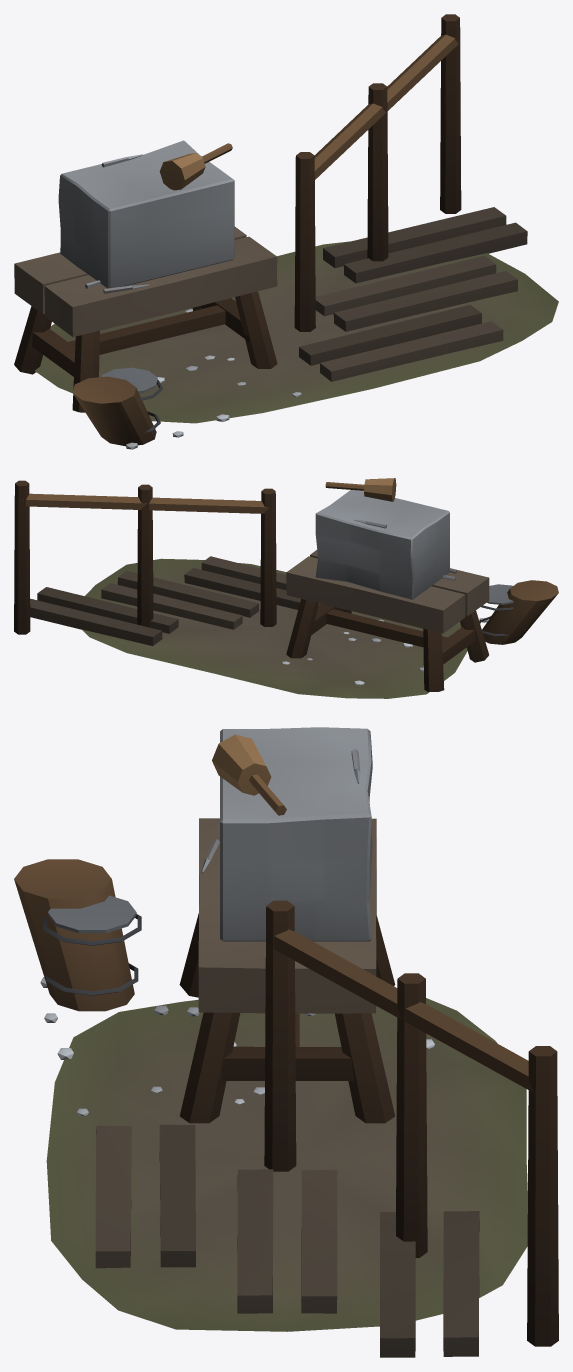
File: ph_bld_mason_bench.glb
3 renders of one model, top to bottom at view 1: azimuth 30°, elevation 25°; view 2: azimuth 150°, elevation 25°; view 3: azimuth 270°, elevation 25°, orthographic. The views are drawn at different scales.
Parts seen in each view (by area): view 1: ph_bld_mason_bench; view 2: ph_bld_mason_bench; view 3: ph_bld_mason_bench.
Boxes of the visible parts, bbox=[...] form: ph_bld_mason_bench: bbox=[14, 14, 558, 449]; ph_bld_mason_bench: bbox=[14, 478, 558, 698]; ph_bld_mason_bench: bbox=[14, 727, 558, 1357].
Bounding box in the file's own units: 2.72 × 1.03 × 1.54.
